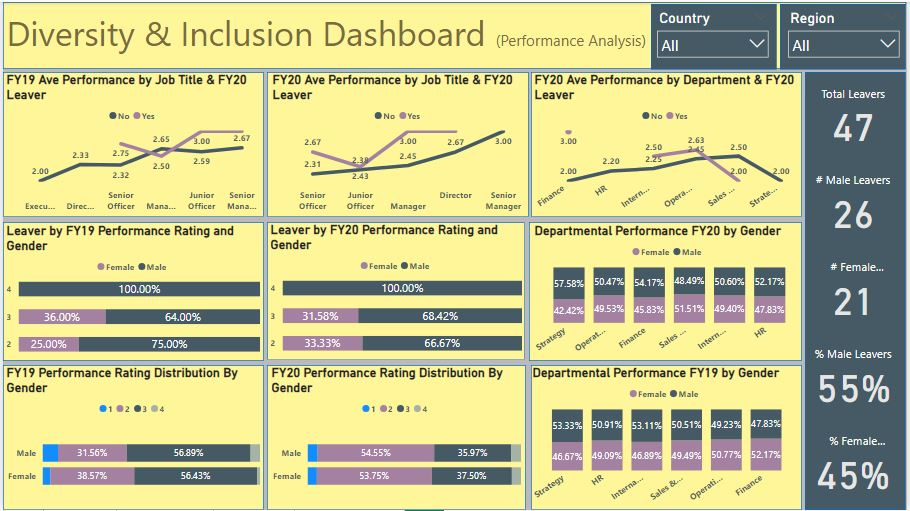

The page's visual inventory and layout, read from the dashboard file:
{"tool":"powerbi","page":{"name":"Performance","canvas":[1280,720],"ordinal":3},"visuals":[{"type":"shape","box":[1137.3,99.9,142.7,620.7],"z":0},{"type":"shape","box":[0,99.9,369.6,205.5],"z":1000},{"type":"shape","box":[373.9,99.9,371,205.5],"z":2000},{"type":"shape","box":[747.7,99.9,383.9,205.5],"z":3000},{"type":"lineChart","title":"FY19 Ave Performance by Job Title & FY20 Leaver","fields":{"Category":["Pharma Group AG.Job Level after FY20 promotions"],"Y":["Avg(Pharma Group AG.FY19 Performance Rating)"],"Series":["Pharma Group AG.FY20 leaver?"]},"box":[0,99.9,369.6,205.5],"z":4000},{"type":"shape","box":[0,0,1280,95],"z":5000},{"type":"textbox","box":[0,0,1280.2,95],"z":6000},{"type":"shape","box":[0,515.1,369.6,205.5],"z":7000},{"type":"shape","box":[373.9,515.1,366.7,205.5],"z":8000},{"type":"shape","box":[747.7,515.1,383.9,205.5],"z":9000},{"type":"lineChart","title":"FY20 Ave Performance by Job Title & FY20 Leaver","fields":{"Category":["Pharma Group AG.Job Level after FY20 promotions"],"Y":["Avg(Pharma Group AG.FY20 Performance Rating)"],"Series":["Pharma Group AG.FY20 leaver?"]},"box":[376.7,99.9,368.2,205.5],"z":10000},{"type":"hundredPercentStackedBarChart","title":"FY20 Performance Rating Distribution By Gender","fields":{"Category":["Pharma Group AG.Gender"],"Y":["CountNonNull(Pharma Group AG.Employee ID)"],"Series":["Pharma Group AG.FY20 Performance Rating"]},"box":[375.3,515.1,363.9,205.5],"z":11000},{"type":"hundredPercentStackedBarChart","title":"FY19 Performance Rating Distribution By Gender","fields":{"Category":["Pharma Group AG.Gender"],"Y":["CountNonNull(Pharma Group AG.Employee ID)"],"Series":["Pharma Group AG.FY19 Performance Rating"]},"box":[0,515.1,369.6,205.5],"z":12000},{"type":"shape","box":[0,312.5,369.6,196.9],"z":13000},{"type":"shape","box":[373.9,312.5,365.3,195.5],"z":14000},{"type":"shape","box":[744.9,312.5,386.7,196.9],"z":15000},{"type":"hundredPercentStackedBarChart","title":"Leaver by FY19 Performance Rating and Gender","fields":{"Category":["Pharma Group AG.FY19 Performance Rating"],"Y":["CountNonNull(Pharma Group AG.Leaver FY)"],"Series":["Pharma Group AG.Gender"]},"box":[0,313.9,369.6,195.5],"z":16000},{"type":"hundredPercentStackedBarChart","title":"Leaver by FY20 Performance Rating and Gender","fields":{"Category":["Pharma Group AG.FY20 Performance Rating"],"Y":["CountNonNull(Pharma Group AG.Leaver FY)"],"Series":["Pharma Group AG.Gender"]},"box":[373.9,312.5,366.7,195.5],"z":17000},{"type":"lineChart","title":"FY20 Ave Performance by Department & FY20 Leaver","fields":{"Category":["Pharma Group AG.Department @01.07.2020"],"Y":["Avg(Pharma Group AG.FY20 Performance Rating)"],"Series":["Pharma Group AG.FY20 leaver?"]},"box":[747.7,99.9,383.9,205.5],"z":18000},{"type":"hundredPercentStackedColumnChart","title":"Departmental Performance FY20 by Gender","fields":{"Category":["Pharma Group AG.Department @01.07.2020"],"Series":["Pharma Group AG.Gender"],"Y":["Avg(Pharma Group AG.FY20 Performance Rating)"]},"box":[747.7,313.9,389.6,195.5],"z":19000},{"type":"hundredPercentStackedColumnChart","title":"Departmental Performance FY19 by Gender","fields":{"Category":["Pharma Group AG.Department @01.07.2020"],"Series":["Pharma Group AG.Gender"],"Y":["Avg(Pharma Group AG.FY19 Performance Rating)"]},"box":[744.9,515.1,386.7,205.5],"z":20000},{"type":"cardVisual","fields":{"Data":["All Measures.# Leavers","All Measures.# Male Leavers","All Measures.# Female Leavers","All Measures.% Male Leavers","All Measures.% Female Leavers"]},"box":[1131.6,100.1,148.4,620.3],"z":21000},{"type":"shape","box":[1101.6,2.9,178.4,92.8],"z":22000},{"type":"slicer","fields":{"Values":["Pharma Group AG.Broad region group: nationality 1"]},"box":[1102.1,5.7,177.9,77.5],"z":23000},{"type":"shape","box":[919,2.9,178.4,92.8],"z":24000},{"type":"slicer","fields":{"Values":["Pharma Group AG.Nationality 1"]},"box":[917.5,5.7,178.4,77.1],"z":25000}]}

Visuals, with their boxes in screenshot pixels (x1, y1, x2, y2), scaled from the page's 1280x720 canvas onto the 910x511 screenshot:
shape: detection(809, 71, 909, 510)
shape: detection(0, 71, 263, 217)
shape: detection(266, 71, 530, 217)
shape: detection(532, 71, 804, 217)
"FY19 Ave Performance by Job Title & FY20 Leaver" lineChart: detection(0, 71, 263, 217)
shape: detection(0, 0, 909, 67)
textbox: detection(0, 0, 909, 67)
shape: detection(0, 366, 263, 510)
shape: detection(266, 366, 527, 510)
shape: detection(532, 366, 804, 510)
"FY20 Ave Performance by Job Title & FY20 Leaver" lineChart: detection(268, 71, 530, 217)
"FY20 Performance Rating Distribution By Gender" hundredPercentStackedBarChart: detection(267, 366, 526, 510)
"FY19 Performance Rating Distribution By Gender" hundredPercentStackedBarChart: detection(0, 366, 263, 510)
shape: detection(0, 222, 263, 362)
shape: detection(266, 222, 526, 361)
shape: detection(530, 222, 804, 362)
"Leaver by FY19 Performance Rating and Gender" hundredPercentStackedBarChart: detection(0, 223, 263, 362)
"Leaver by FY20 Performance Rating and Gender" hundredPercentStackedBarChart: detection(266, 222, 527, 361)
"FY20 Ave Performance by Department & FY20 Leaver" lineChart: detection(532, 71, 804, 217)
"Departmental Performance FY20 by Gender" hundredPercentStackedColumnChart: detection(532, 223, 809, 362)
"Departmental Performance FY19 by Gender" hundredPercentStackedColumnChart: detection(530, 366, 804, 510)
cardVisual - All Measures.# Leavers x All Measures.# Male Leavers: detection(804, 71, 909, 510)
shape: detection(783, 2, 909, 68)
slicer - Pharma Group AG.Broad region group: nationality 1: detection(784, 4, 909, 59)
shape: detection(653, 2, 780, 68)
slicer - Pharma Group AG.Nationality 1: detection(652, 4, 779, 59)
